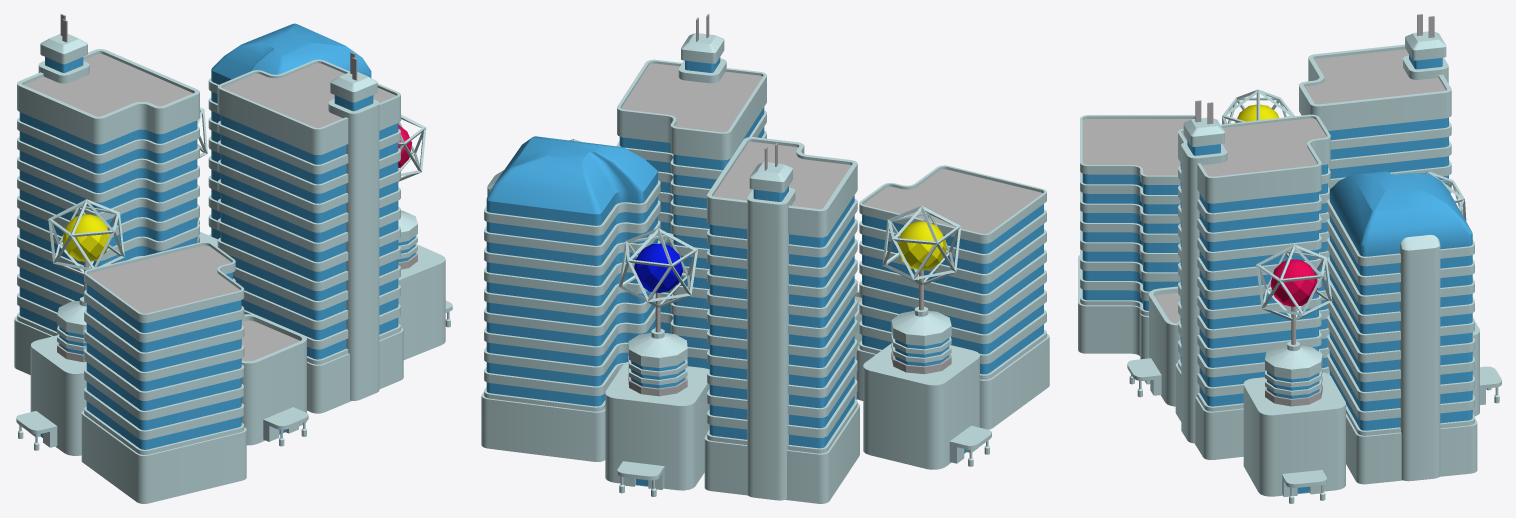
File: thingy5.gltf
The picture shows the model from 3 angles, left to right: view 1: azimuth 30°, elevation 25°; view 2: azimuth 150°, elevation 25°; view 3: azimuth 270°, elevation 25°; orthographic projection. The views are drawn at different scales.
Visible parts, largest first — view 1: Cube.003, Cube.001, Cube.002, Cube.011, Cube.012, Cube.016, Cube.010, Cube.009, Cube.007, Cube.006, Cube.008, Cube.005 (+6 smaller); view 2: Cube.001, Cube.002, Cube.003, Cube.016, Cube.011, Cube.012, Cube.015, Cube.007, Cube.008, Cube.006, Cube.009, Cube.010 (+6 smaller); view 3: Cube.002, Cube.003, Cube.001, Cube.011, Cube.012, Cube.004, Cube.007, Cube.008, Cube.010, Cube.006, Cube.009, Cube.005 (+3 smaller).
Part boxes in pixels (x1,y1,x2,y2): Cube.003: (217, 52, 403, 446); Cube.001: (14, 14, 217, 374); Cube.002: (208, 23, 452, 359); Cube.011: (84, 241, 244, 322); Cube.012: (81, 410, 246, 503); Cube.016: (30, 335, 86, 455); Cube.010: (84, 272, 244, 342); Cube.009: (84, 304, 244, 361); Cube.007: (84, 343, 244, 400); Cube.006: (84, 362, 244, 420); Cube.008: (84, 323, 244, 381); Cube.005: (84, 382, 244, 439); Cube.001: (605, 137, 859, 503); Cube.002: (481, 136, 660, 461); Cube.003: (617, 14, 861, 399); Cube.016: (863, 344, 979, 469); Cube.011: (859, 165, 1046, 243); Cube.012: (856, 334, 1049, 429); Cube.015: (891, 270, 951, 374); Cube.007: (859, 264, 1046, 323); Cube.008: (859, 244, 1046, 303); Cube.006: (859, 284, 1046, 343); Cube.009: (859, 224, 1046, 283); Cube.010: (859, 204, 1046, 263); Cube.002: (1243, 170, 1477, 503); Cube.003: (1127, 100, 1330, 459); Cube.001: (1299, 14, 1501, 416); Cube.011: (1080, 115, 1195, 184); Cube.012: (1078, 255, 1148, 359); Cube.004: (1256, 244, 1332, 320); Cube.007: (1080, 229, 1180, 262); Cube.008: (1080, 210, 1180, 242); Cube.010: (1080, 171, 1180, 204); Cube.006: (1080, 249, 1180, 281); Cube.009: (1080, 191, 1180, 223); Cube.005: (1080, 268, 1179, 300).
Bounding box in the file's own units: 19.14 × 13.86 × 15.9.
